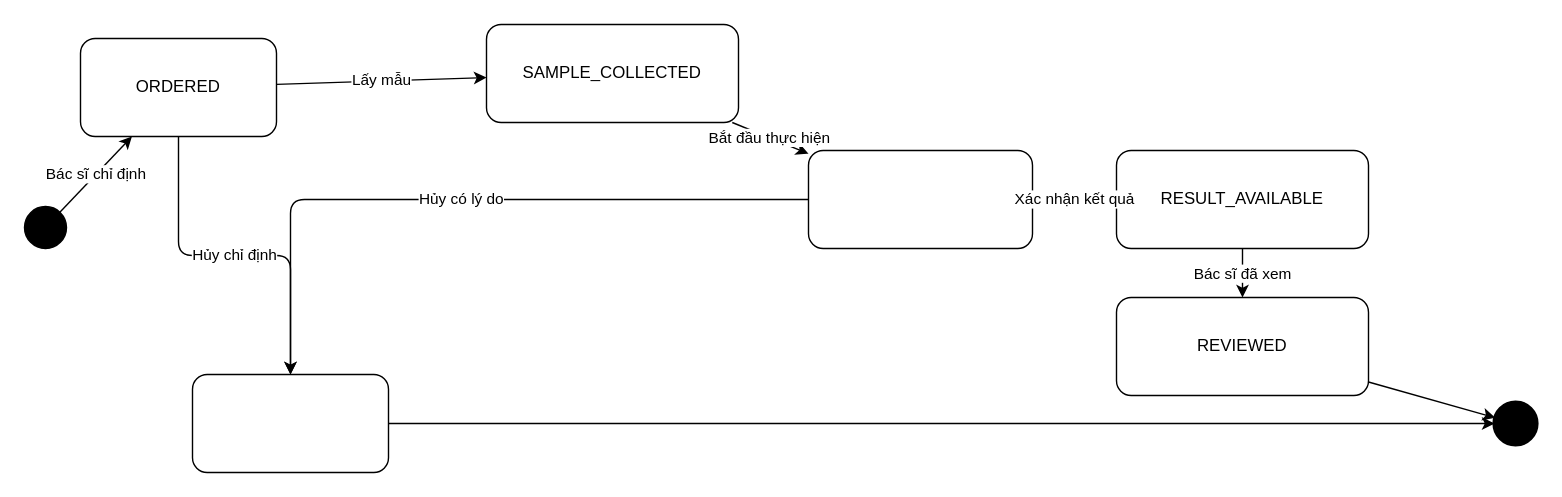
Image size: 1562x497. Some labels were removed from this diagram. The box of each missing label's shape, as (x1, y1, x2, y2) in pixels:
CANCELLED: (191, 373, 388, 472)
IN_PROGRESS: (807, 149, 1032, 248)
